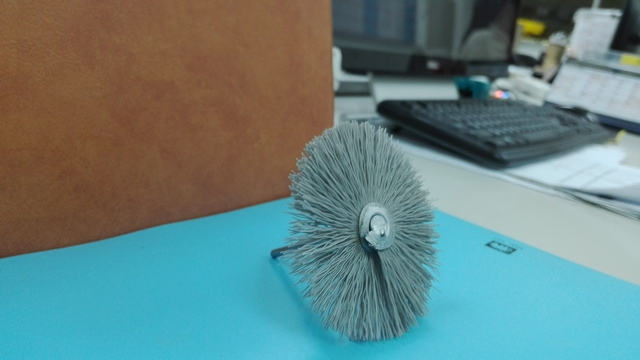TOOL: (224, 100, 455, 357), (268, 104, 445, 340)
